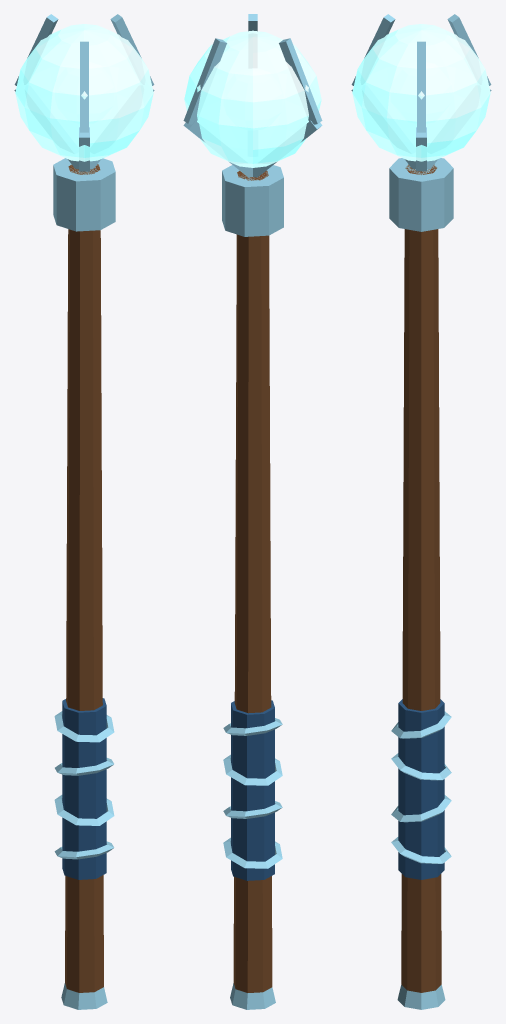
The model's file is weapon_staff_frost_v01.glb.
The picture shows the model from 3 angles, left to right: view 1: azimuth 30°, elevation 25°; view 2: azimuth 210°, elevation 25°; view 3: azimuth 270°, elevation 25°; orthographic projection.
Parts seen in each view (by area): view 1: weapon_staff_frost; view 2: weapon_staff_frost; view 3: weapon_staff_frost.
Part boxes in pixels (x1=…): weapon_staff_frost: x1=14, y1=14, x2=154, y2=1009; weapon_staff_frost: x1=183, y1=14, x2=322, y2=1009; weapon_staff_frost: x1=351, y1=14, x2=491, y2=1009.
Bounding box in the file's own units: 0.1596 × 1.17 × 0.1519.
